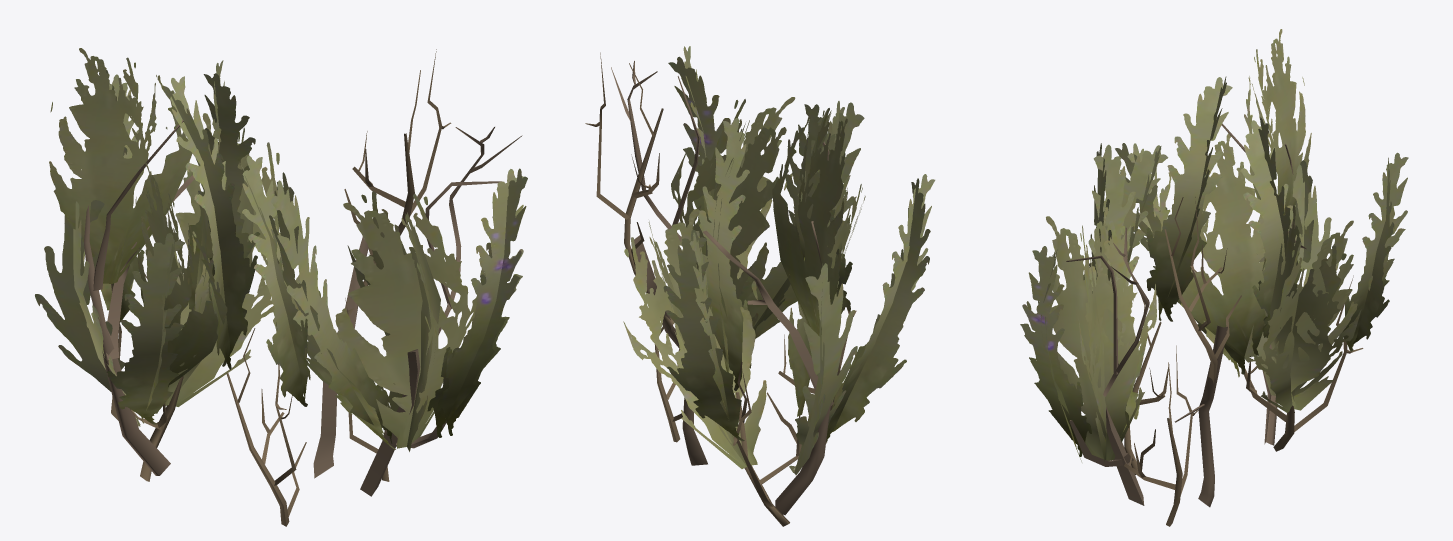
The picture shows the model from 3 angles, left to right: view 1: azimuth 30°, elevation 25°; view 2: azimuth 150°, elevation 25°; view 3: azimuth 270°, elevation 25°; orthographic projection. The views are drawn at different scales.
Visible parts, largest first — view 1: body0_model0_lod0_mesh0; view 2: body0_model0_lod0_mesh0; view 3: body0_model0_lod0_mesh0.
Part boxes in pixels (x1,y1,x2,y2): body0_model0_lod0_mesh0: [35, 48, 527, 526]; body0_model0_lod0_mesh0: [585, 46, 935, 526]; body0_model0_lod0_mesh0: [1020, 29, 1408, 526].
Bounding box in the file's own units: 57.61 × 68.27 × 64.18.
1 material, 1 textured.
